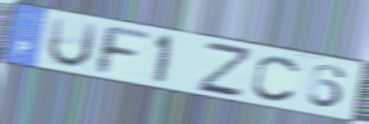1: (150, 32, 175, 85)
6: (307, 63, 348, 110)
C: (250, 53, 304, 104)
F: (95, 22, 153, 77)
U: (44, 15, 101, 70)
Z: (195, 38, 253, 100)
